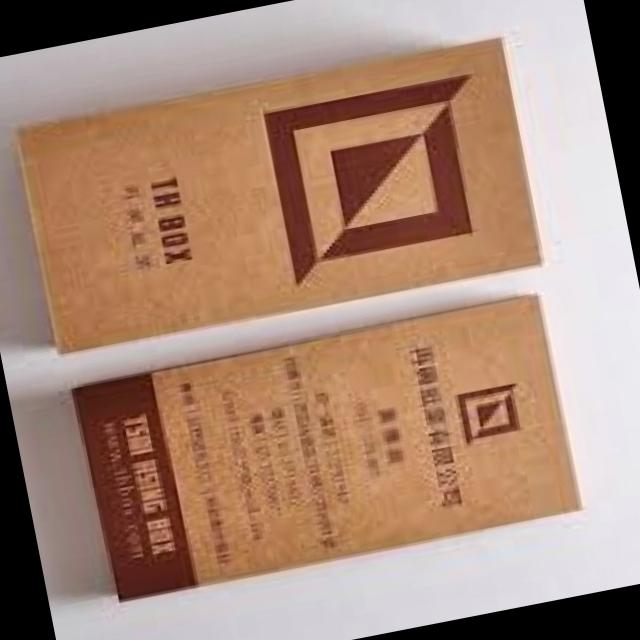cardboard paper: (21, 36, 542, 347), (77, 294, 580, 596)
